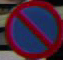No waiting: (4, 3, 58, 55)
